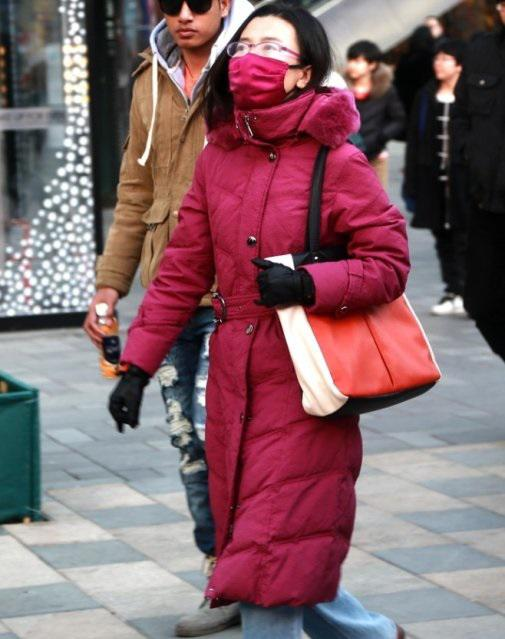NONE: (164, 1, 226, 50), (436, 55, 459, 78), (350, 56, 370, 79)
OK: (224, 25, 299, 100)
